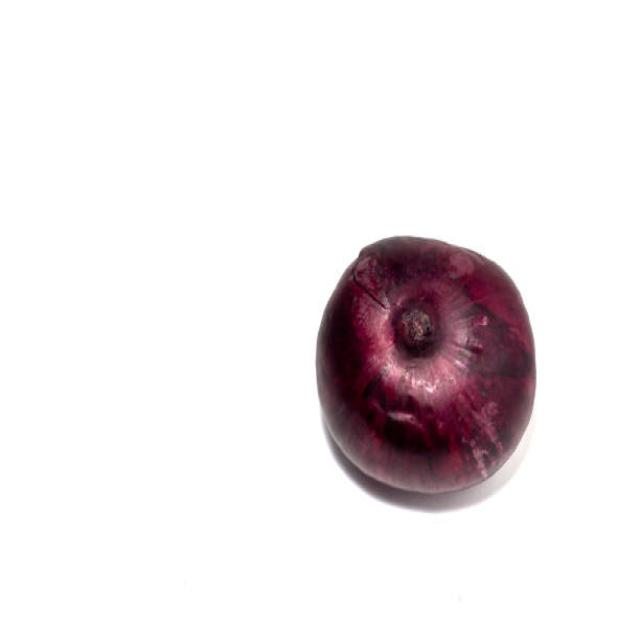onion: (309, 231, 538, 512)
